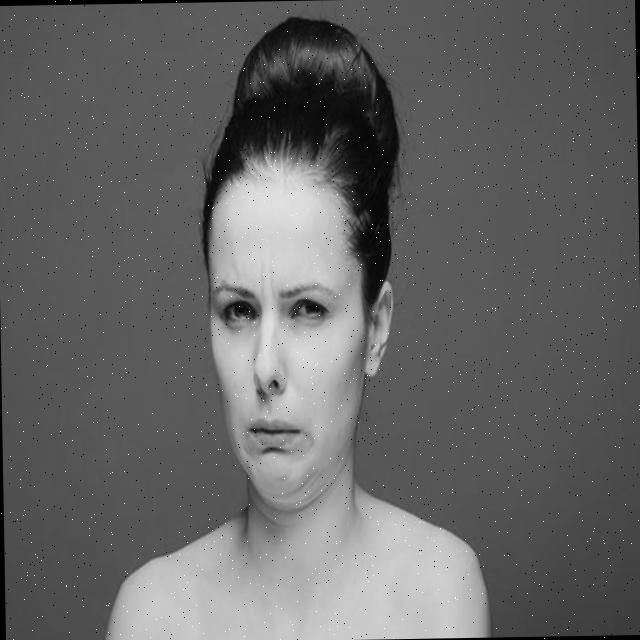Disgust: (205, 166, 368, 508)
